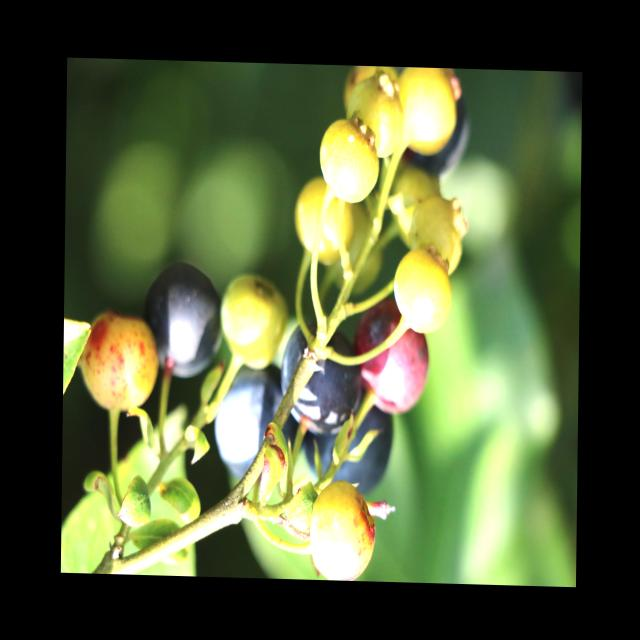blueberry: (139, 256, 227, 387), (274, 317, 364, 443), (299, 393, 396, 505), (212, 362, 295, 486), (402, 86, 473, 186)
blueberry-halfripe: (356, 307, 428, 418)
blueberry-unripe: (81, 315, 160, 411), (308, 480, 378, 580), (399, 66, 460, 160), (391, 246, 452, 336), (222, 275, 280, 368), (318, 122, 378, 204), (410, 192, 468, 275), (344, 81, 404, 160), (293, 187, 350, 268)
